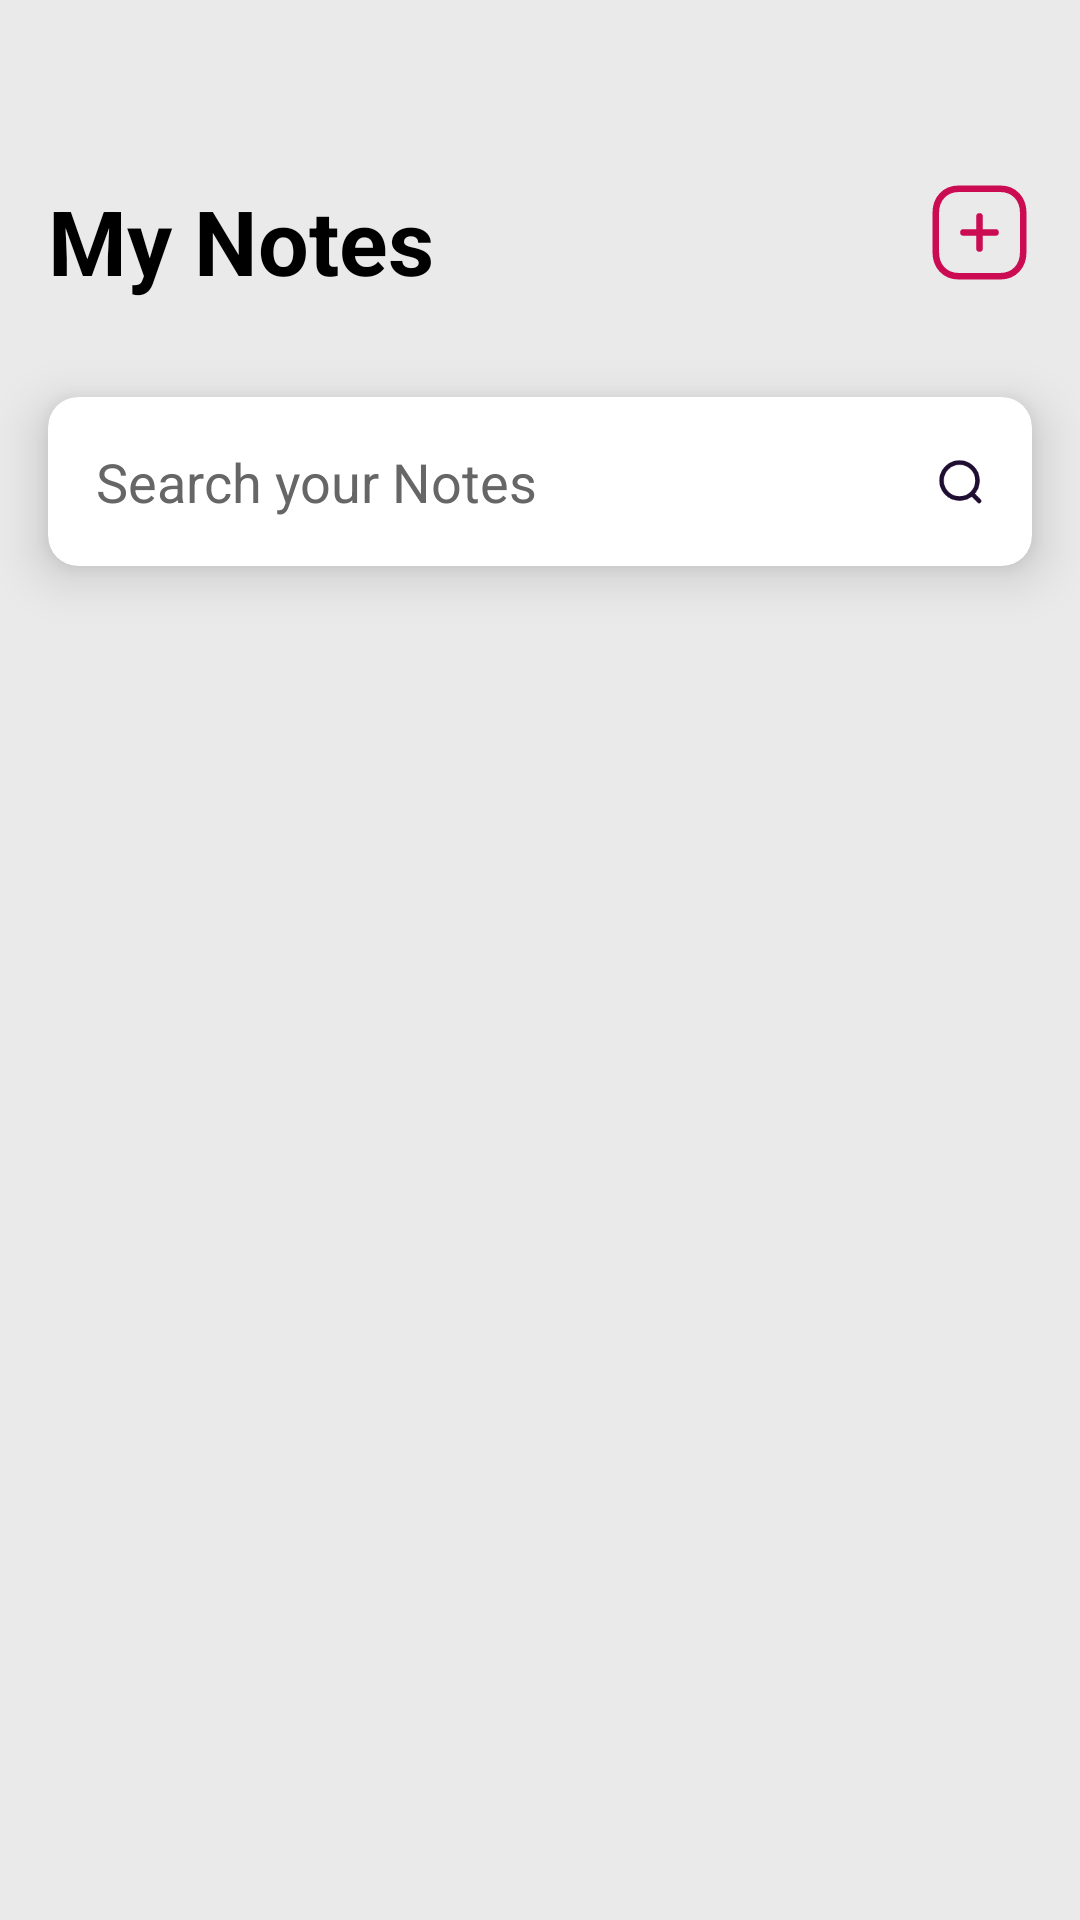

Point at icon controls on the screen. Image size 1080px×1920px, points as (x=x, y=y).
add: (x=979, y=232)
